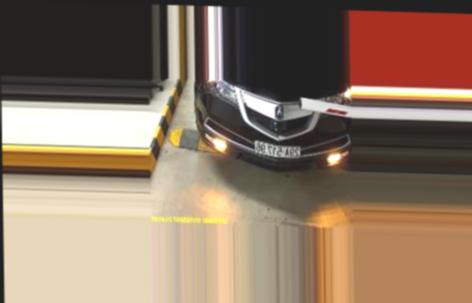License_Plate: (255, 140, 302, 159)
